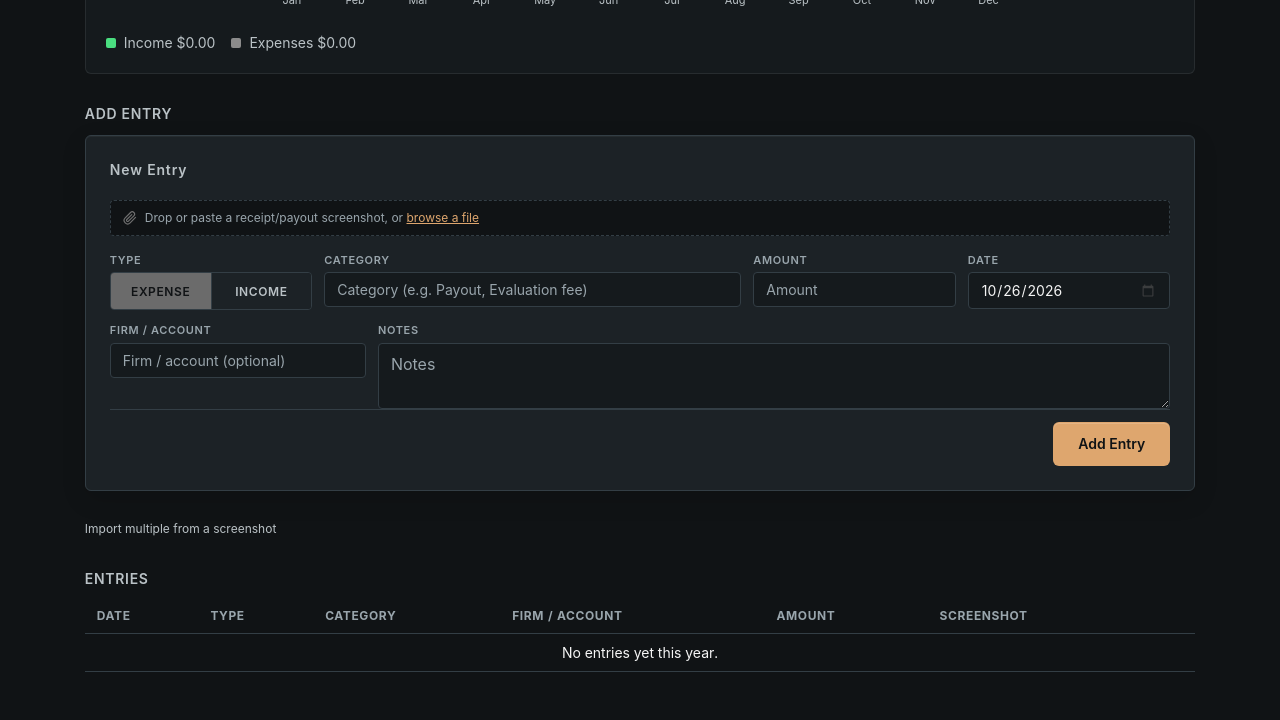
Test: Financials › keeps the bulk import panel collapsed by default and reveals it via the toggle
(page scrolled)
Expected: the text "payout-history / expenses table screenshot" is not shown
Click the button with class "toggle-more-button". click: (181, 528)
box: 85,521 -> 276,536
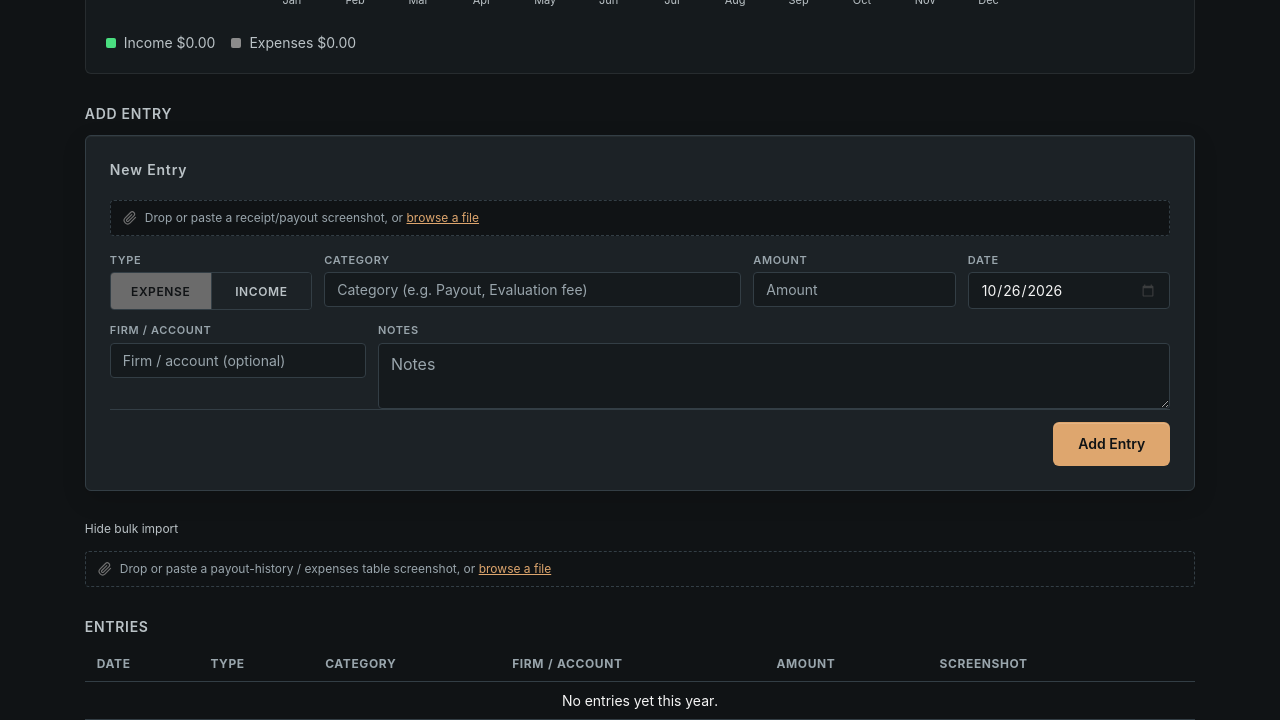
Now the text "payout-history / expenses table screenshot" is shown, box 120,561 -> 479,576
Now the text "Hide bulk import" is shown, box 85,521 -> 178,536
